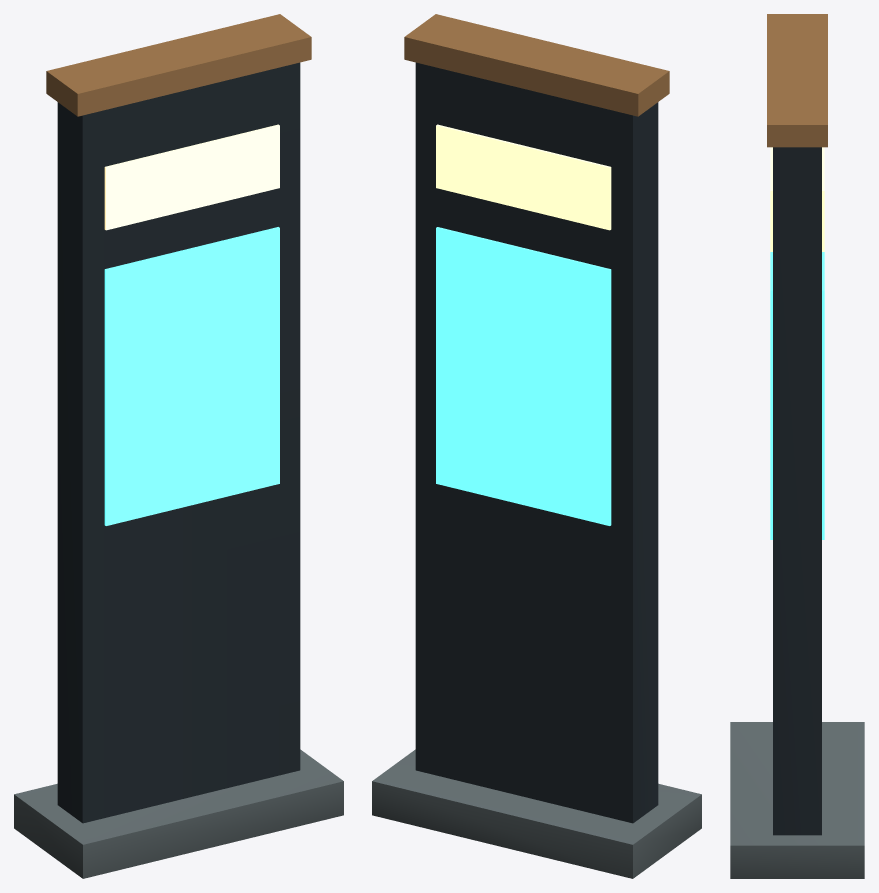
File: info-pylon.lod2.glb
3 renders of one model, left to right at view 1: azimuth 30°, elevation 25°; view 2: azimuth 150°, elevation 25°; view 3: azimuth 270°, elevation 25°, orthographic. The views are drawn at different scales.
Visible parts, largest first — view 1: structure; view 2: structure; view 3: structure.
Boxes of the visible parts, left/top/right/bottom form: structure: left=14, top=14, right=343, bottom=878; structure: left=372, top=14, right=701, bottom=878; structure: left=730, top=14, right=864, bottom=878.
Bounding box in the file's own units: 0.96 × 2.7 × 0.44.
